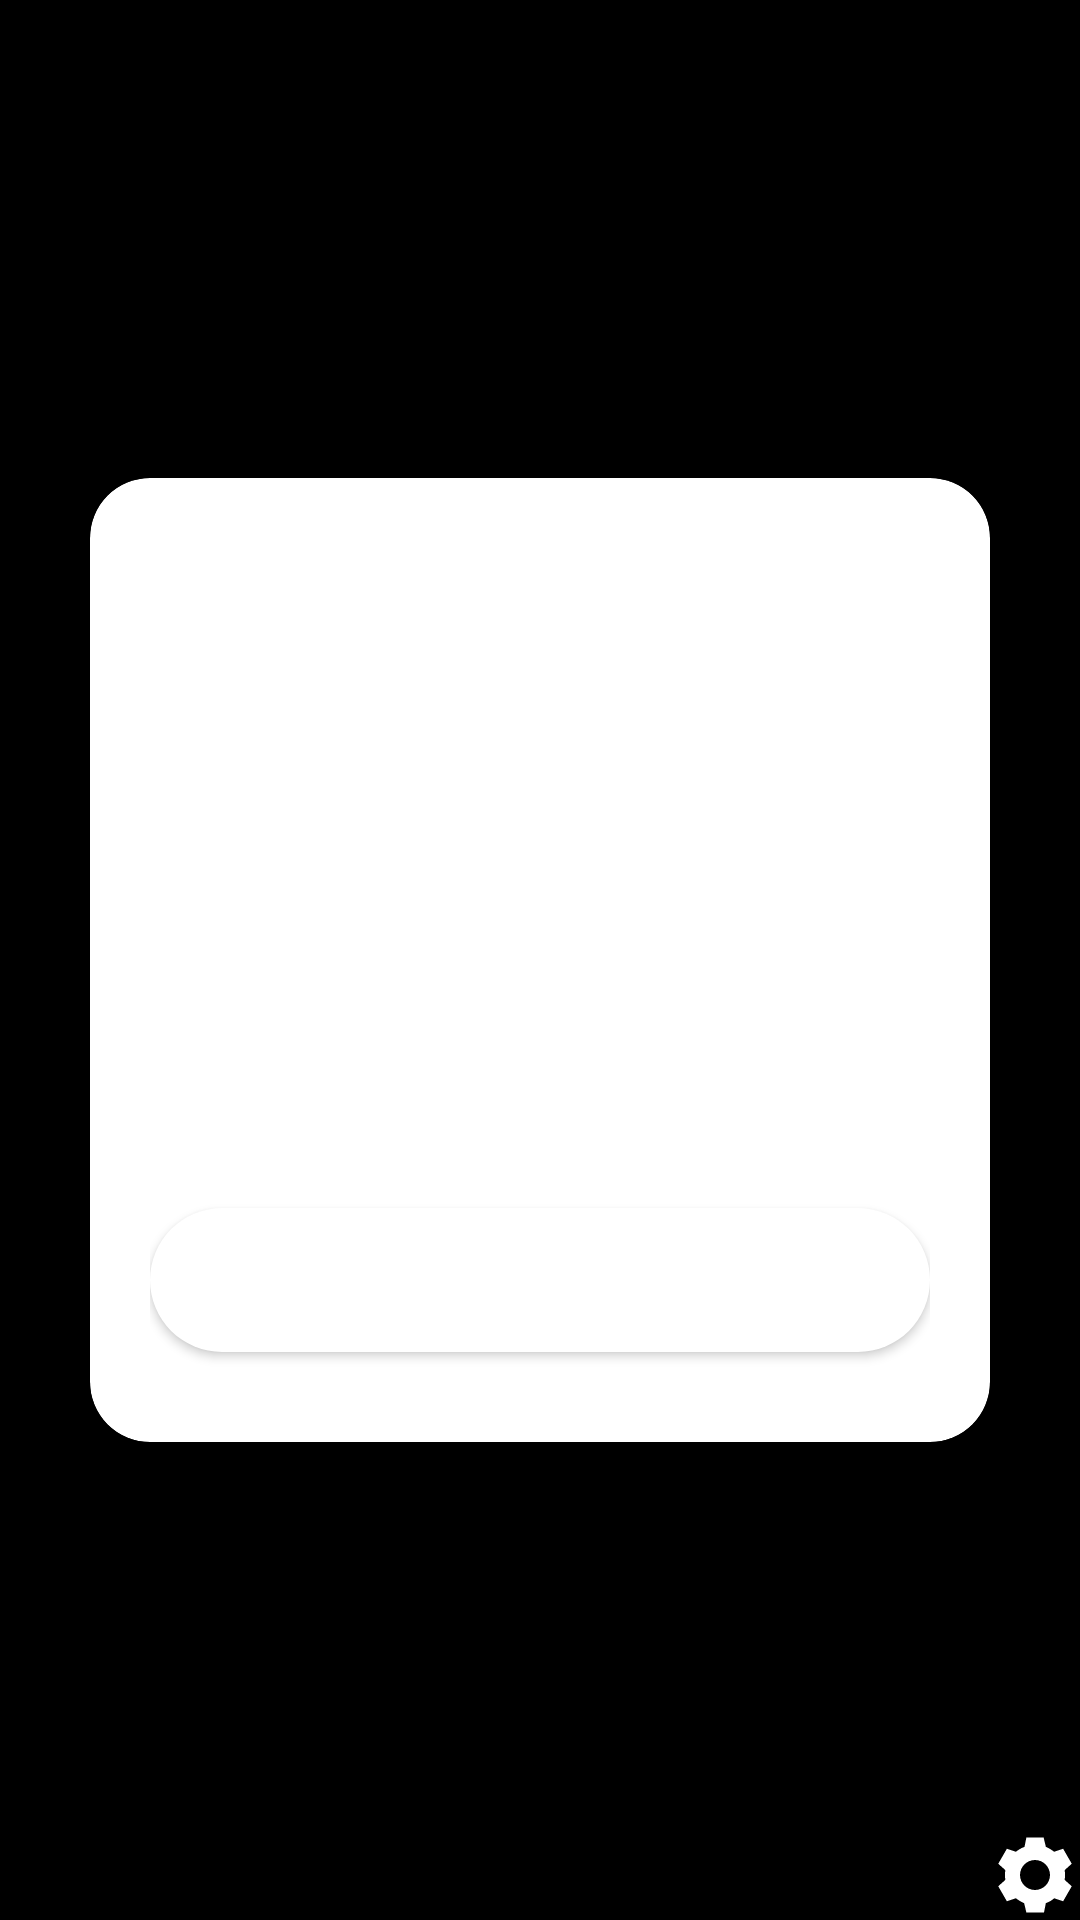

Screen size 1080×1920. Icon name, then its box in pixels as [left=x1, top=y1, right=x2, bottom=y2]:
settings: [left=998, top=1837, right=1072, bottom=1913]
